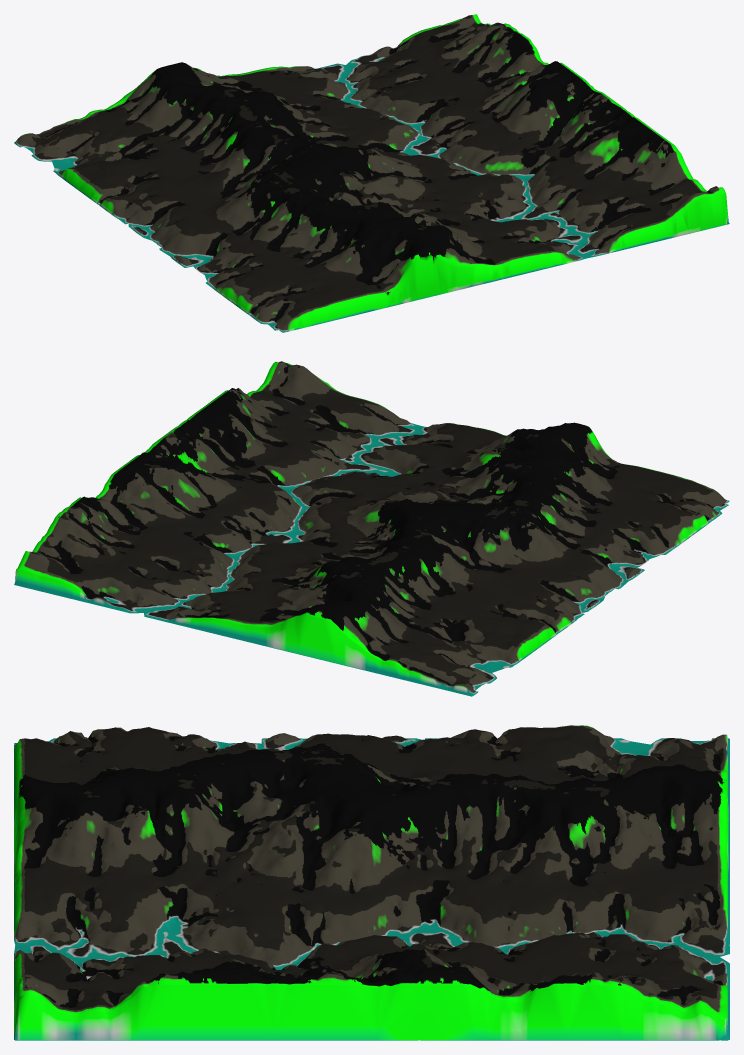
The model's file is landscape1.glb.
The picture shows the model from 3 angles, top to bottom: view 1: azimuth 30°, elevation 25°; view 2: azimuth 150°, elevation 25°; view 3: azimuth 270°, elevation 25°; orthographic projection. The views are drawn at different scales.
Visible parts, largest first — view 1: Landscape; view 2: Landscape; view 3: Landscape.
Boxes of the visible parts, bbox=[...] form: Landscape: bbox=[14, 14, 729, 332]; Landscape: bbox=[14, 361, 729, 696]; Landscape: bbox=[14, 725, 729, 1040].
Size of the model in its own units: 4.97 by 0.4605 by 4.97.
1 material, 1 textured.
